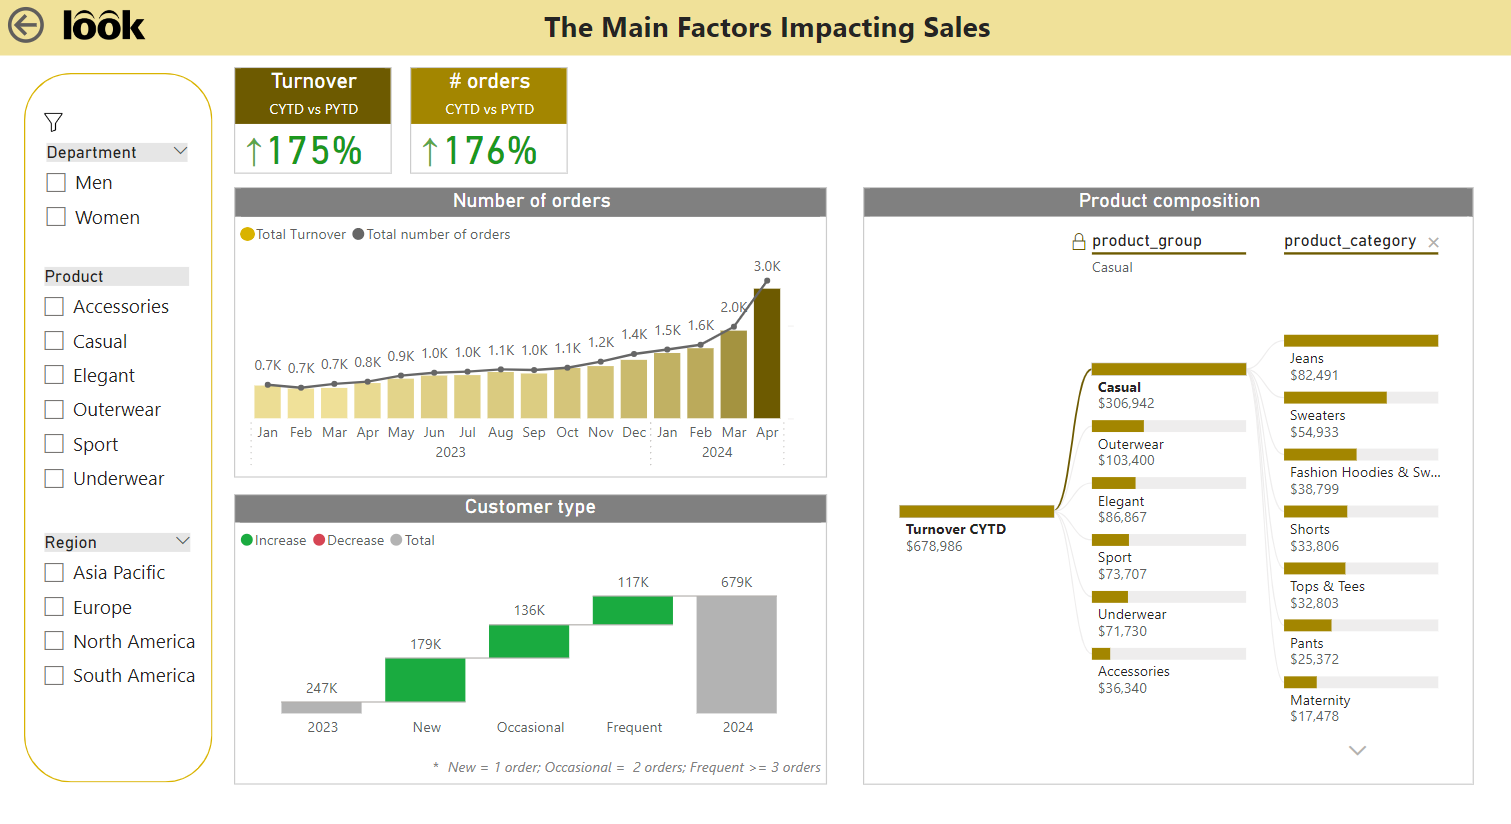

The dashboard page shown, as its layout file describes it:
{"tool":"powerbi","page":{"name":"Key Influences","canvas":[1280,720],"ordinal":1},"visuals":[{"type":"shape","box":[0,0,1280,51],"z":0},{"type":"textbox","box":[454,4,454,44],"z":1000},{"type":"lineClusteredColumnComboChart","title":"Number of orders","fields":{"Y":["Measures_.Total Turnover"],"Y2":["Measures_.Number of orders"],"Category":["DatesCalendar.Year","DatesCalendar.Month","DatesCalendar.Week","DatesCalendar.Day","DatesCalendar.Weekday"]},"box":[197,162,500,245],"z":2000},{"type":"group","id":"g1","title":"Group 1","box":[346,61,132.7,90],"z":3000},{"type":"group","id":"g2","title":"Group 1","box":[196.9,61,132.7,90],"z":4000},{"type":"actionButton","box":[1.8,5.4,100.3,40.3],"z":5000},{"type":"card","title":"Turnover","fields":{"Values":["Measures_.Turnover CYTDvsPYTD %"]},"box":[196.9,61,132.7,90],"z":5000,"group":"g2"},{"type":"card","title":"# orders","fields":{"Values":["Measures_.Number of orders CYTDvsPYTD %"]},"box":[346,61,132.7,90],"z":5000,"group":"g1"},{"type":"group","id":"g3","title":"Group 2","box":[197,421,500,215],"z":5000,"group":"g4"},{"type":"image","box":[44.8,6.3,85.1,37.6],"z":6000},{"type":"card","fields":{"Values":["Measures_.KPI Symbol CYTDvsPYTD"]},"box":[198.7,111,30,39.1],"z":6000,"group":"g2"},{"type":"card","fields":{"Values":["Measures_.Increase Symbol Orders CYTDvsPYTD"]},"box":[347.8,111,30,39.1],"z":6000,"group":"g1"},{"type":"textbox","box":[209,636,488,28],"z":6000,"group":"g4"},{"type":"shape","box":[20,65.6,158.8,598.2],"z":7000},{"type":"textbox","box":[197,421,500,245],"z":7000,"group":"g4"},{"type":"slicer","fields":{"Values":["DimProducts.department"]},"box":[26,120,145.1,89.6],"z":8000},{"type":"image","box":[32.2,94,26,26],"z":9000},{"type":"waterfallChart","title":"Customer type","fields":{"Y":["Measures_.Total Turnover"],"Category":["DatesCalendar.Year"],"Breakdown":["DimUsers.customer_type"]},"box":[197,421,500,215],"z":9000,"group":"g3"},{"type":"slicer","fields":{"Values":["DimUsers.region"]},"box":[24.2,448.7,148.7,161.2],"z":10000},{"type":"decompositionTreeVisual","title":"Product composition","fields":{"ExplainBy":["DimProducts.product_group","DimProducts.product_category"],"Analyze":["Measures_.Turnover CYTD"]},"box":[732,162,515,504],"z":11000},{"type":"shape","box":[202.7,195.5,12.7,11.8],"z":12000},{"type":"slicer","fields":{"Values":["DimProducts.product_group"]},"box":[24.2,223.9,147.8,212.2],"z":13000},{"type":"group","id":"g4","title":"Group 3","box":[197,421,500,245],"z":14000},{"type":"shape","box":[370.7,448.7,55.9,18.5],"z":15000,"group":"g3"}]}

Visuals, with their boxes on the page's 1280x720 design canvas (x1, y1, x2, y2). These are canvas units, not pixel positions in the 1511x824 screenshot, which may show the page scaled, cropped or inside an application window:
shape: box=[0, 0, 1280, 51]
textbox: box=[454, 4, 908, 48]
"Number of orders" lineClusteredColumnComboChart: box=[197, 162, 697, 407]
"Group 1" group: box=[346, 61, 479, 151]
"Group 1" group: box=[197, 61, 330, 151]
actionButton: box=[2, 5, 102, 46]
"Turnover" card: box=[197, 61, 330, 151]
"# orders" card: box=[346, 61, 479, 151]
"Group 2" group: box=[197, 421, 697, 636]
image: box=[45, 6, 130, 44]
card - Measures_.KPI Symbol CYTDvsPYTD: box=[199, 111, 229, 150]
card - Measures_.Increase Symbol Orders CYTDvsPYTD: box=[348, 111, 378, 150]
textbox: box=[209, 636, 697, 664]
shape: box=[20, 66, 179, 664]
textbox: box=[197, 421, 697, 666]
slicer - DimProducts.department: box=[26, 120, 171, 210]
image: box=[32, 94, 58, 120]
"Customer type" waterfallChart: box=[197, 421, 697, 636]
slicer - DimUsers.region: box=[24, 449, 173, 610]
"Product composition" decompositionTreeVisual: box=[732, 162, 1247, 666]
shape: box=[203, 196, 215, 207]
slicer - DimProducts.product_group: box=[24, 224, 172, 436]
"Group 3" group: box=[197, 421, 697, 666]
shape: box=[371, 449, 427, 467]
